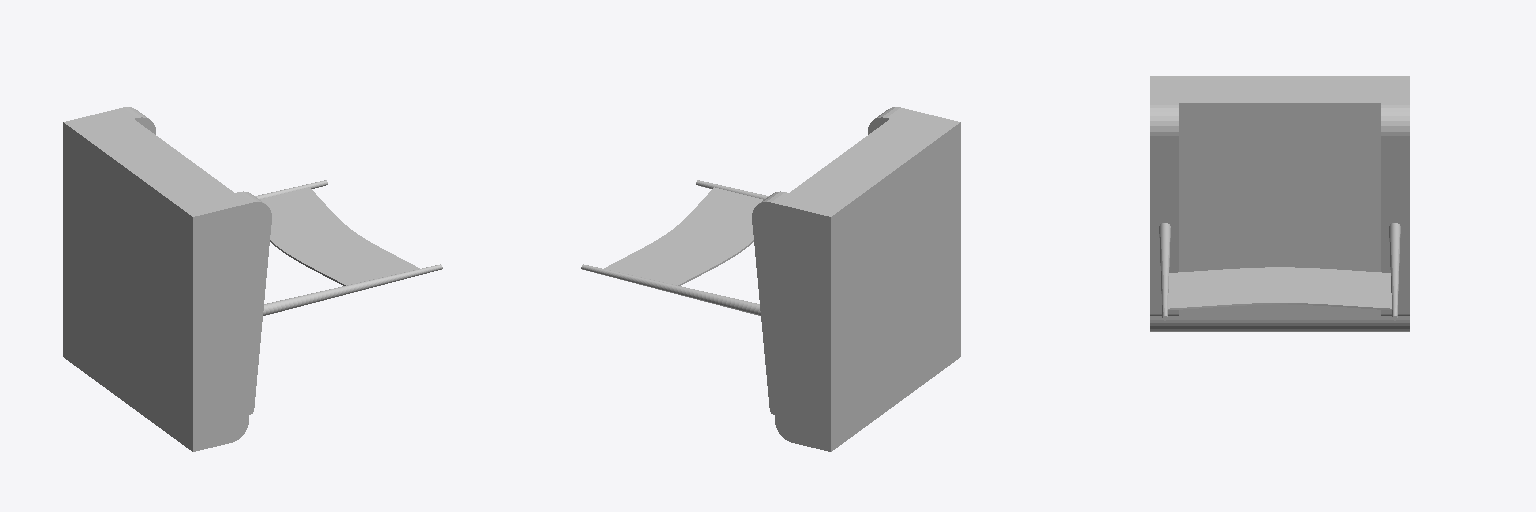
File: Block_RB_Start.obj
3 renders of one model, left to right at view 1: azimuth 30°, elevation 25°; view 2: azimuth 150°, elevation 25°; view 3: azimuth 270°, elevation 25°, orthographic.
Parts seen in each view (by area): view 1: Cube.001_Cube.002; view 2: Cube.001_Cube.002; view 3: Cube.001_Cube.002.
Boxes of the visible parts, x1,y1,x2,y2 form: Cube.001_Cube.002: [63, 107, 442, 451]; Cube.001_Cube.002: [581, 107, 960, 451]; Cube.001_Cube.002: [1150, 76, 1409, 331].
Size of the model in its own units: 4.55 by 4 by 4.